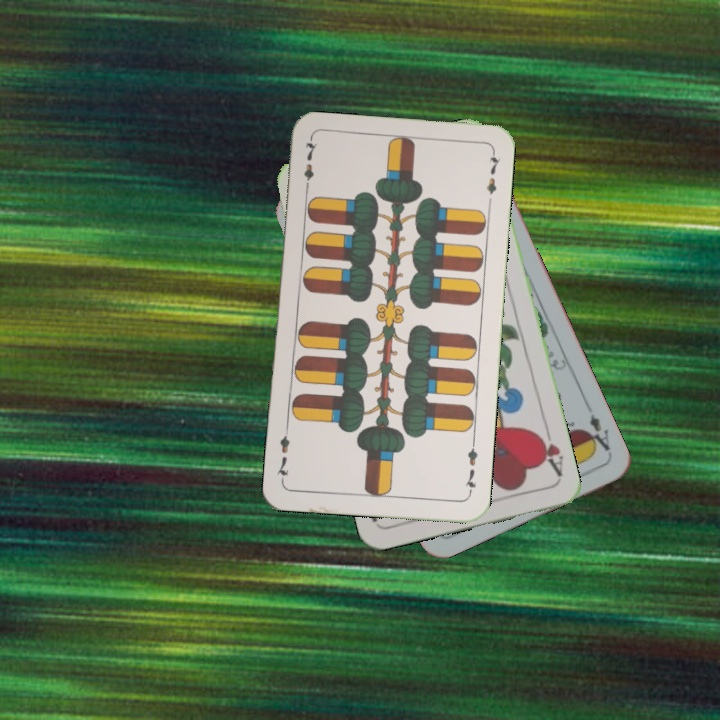E7: (461, 438, 480, 497), (300, 136, 319, 195)
EA: (580, 408, 614, 457)
HA: (532, 423, 566, 480)
